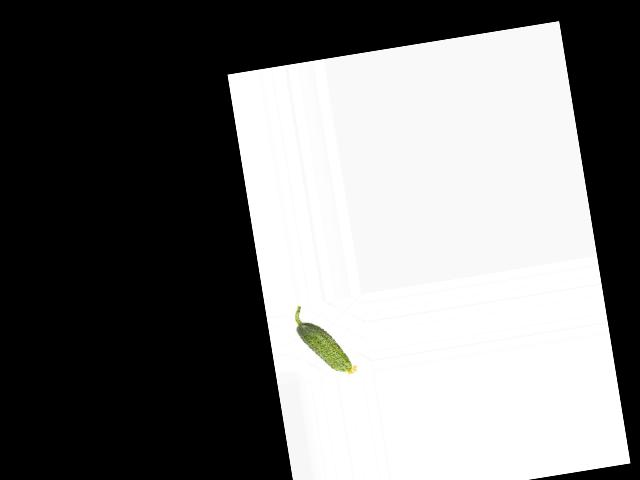cucumber: (292, 299, 358, 382)
